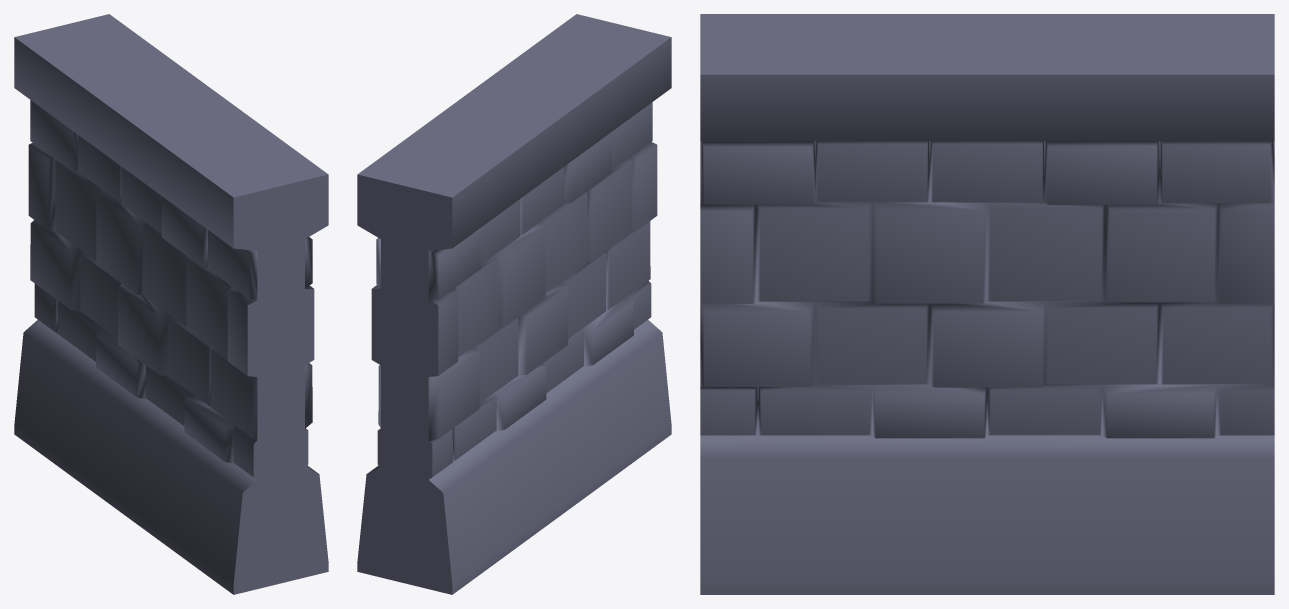
Rendered from inner_wall_segment.fbx.
3 renders of one model, left to right at view 1: azimuth 30°, elevation 25°; view 2: azimuth 150°, elevation 25°; view 3: azimuth 270°, elevation 25°, orthographic. The views are drawn at different scales.
Visible parts, largest first — view 1: Inner_wall_segement; view 2: Inner_wall_segement; view 3: Inner_wall_segement.
Part boxes in pixels (<box>): Inner_wall_segement: <box>14,14,328,594</box>; Inner_wall_segement: <box>357,14,671,594</box>; Inner_wall_segement: <box>700,14,1274,594</box>.
Bounding box in the file's own units: 64 × 256 × 256.
